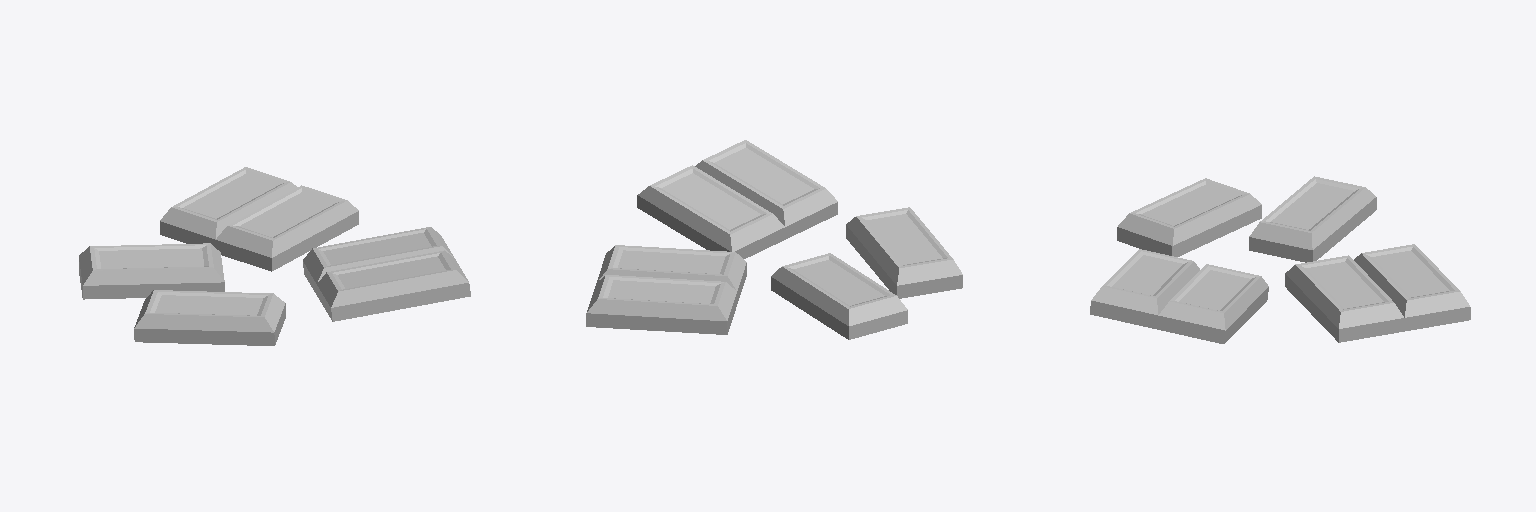
File: Chocolate_chopped.obj
3 renders of one model, left to right at view 1: azimuth 30°, elevation 25°; view 2: azimuth 150°, elevation 25°; view 3: azimuth 270°, elevation 25°, orthographic.
Parts seen in each view (by area): view 1: DoubleChoco_0, DoubleChoco_0.001, Chocolate_0, Chocolate_0.001; view 2: DoubleChoco_0.001, DoubleChoco_0, Chocolate_0.001, Chocolate_0; view 3: DoubleChoco_0, DoubleChoco_0.001, Chocolate_0, Chocolate_0.001.
Part boxes in pixels (x1,y1,x2,y2): DoubleChoco_0: (160,167,358,271); DoubleChoco_0.001: (303,227,470,321); Chocolate_0: (134,290,285,345); Chocolate_0.001: (79,243,224,299); DoubleChoco_0.001: (637,140,837,258); DoubleChoco_0: (586,245,746,334); Chocolate_0.001: (771,253,907,339); Chocolate_0: (846,207,962,298); DoubleChoco_0: (1285,244,1470,342); DoubleChoco_0.001: (1090,249,1268,343); Chocolate_0: (1117,178,1261,256); Chocolate_0.001: (1249,176,1376,262).
Bounding box in the file's own units: 0.2575 × 0.0374 × 0.2679.